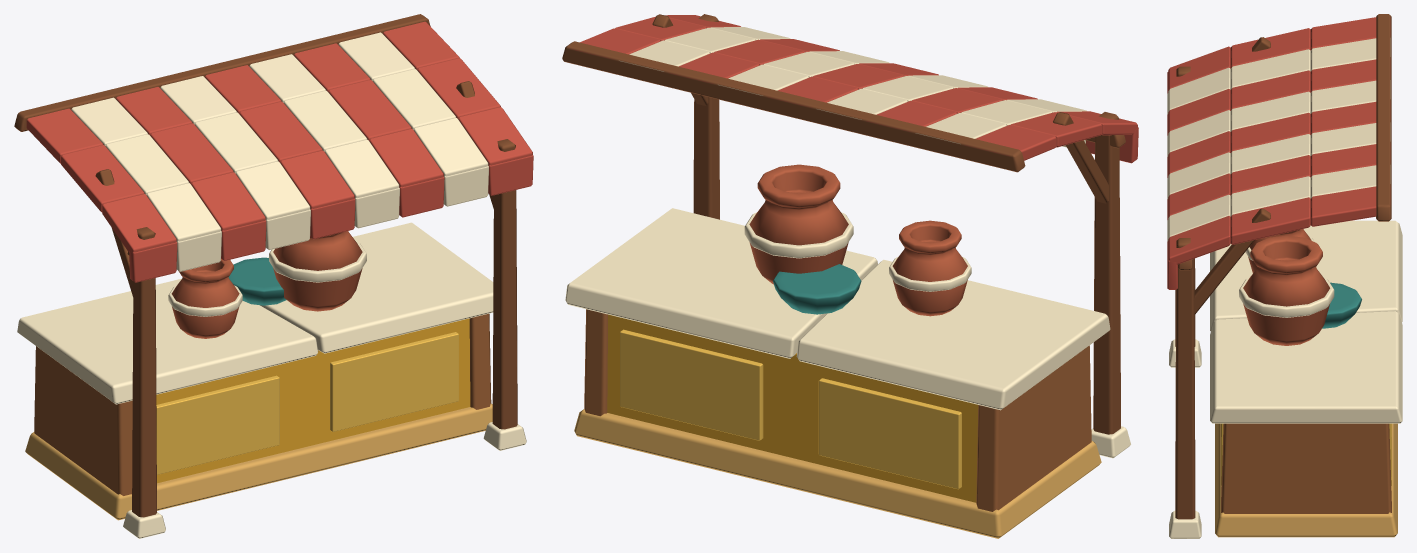
File: b_stall.glb
The picture shows the model from 3 angles, left to right: view 1: azimuth 30°, elevation 25°; view 2: azimuth 150°, elevation 25°; view 3: azimuth 270°, elevation 25°; orthographic projection. The views are drawn at different scales.
Parts seen in each view (by area): view 1: b_stall; view 2: b_stall; view 3: b_stall.
Boxes of the visible parts, x1,y1,x2,y2 form: b_stall: (14, 14, 533, 538); b_stall: (562, 14, 1138, 538); b_stall: (1167, 14, 1402, 538).
Bounding box in the file's own units: 3.29 × 2.65 × 1.67.
